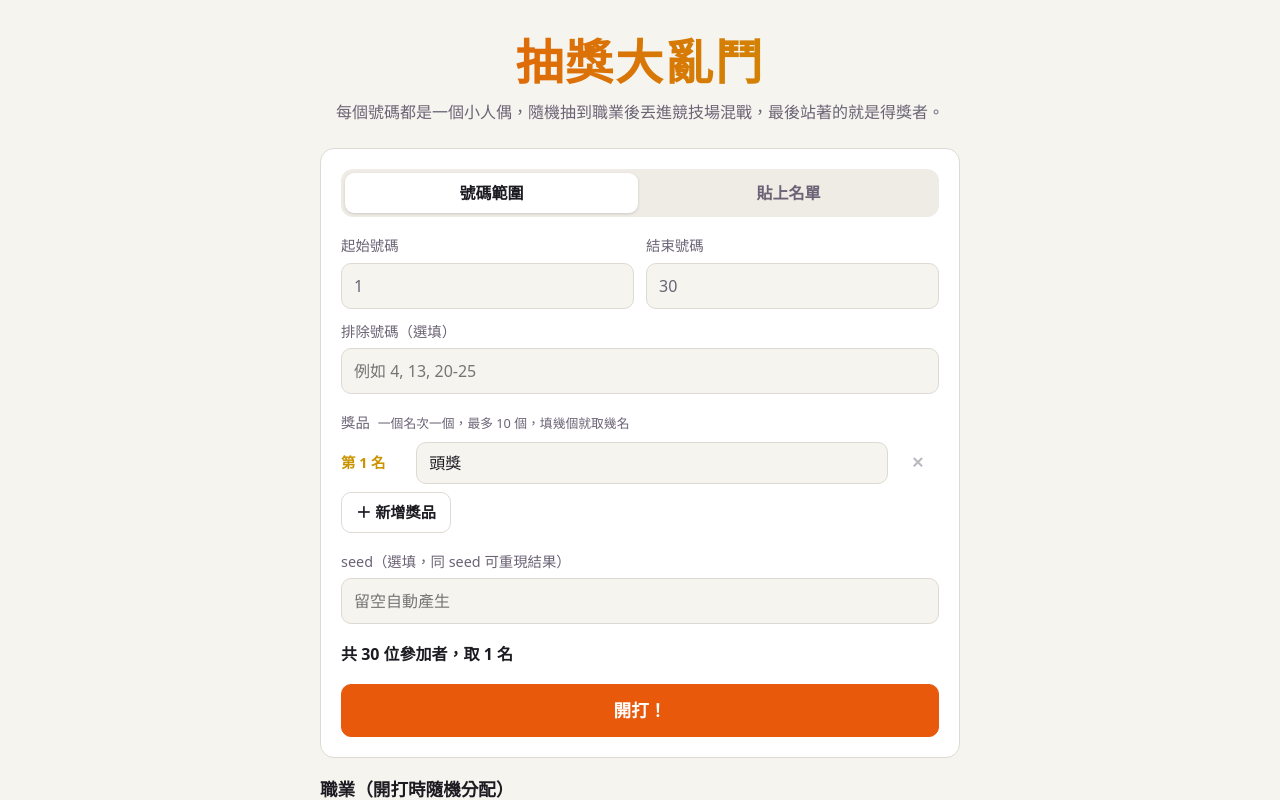
Test: App flow › toggles pause with the Space key
Click the button "開打！". click: (640, 710)
box: [341,684,939,737]
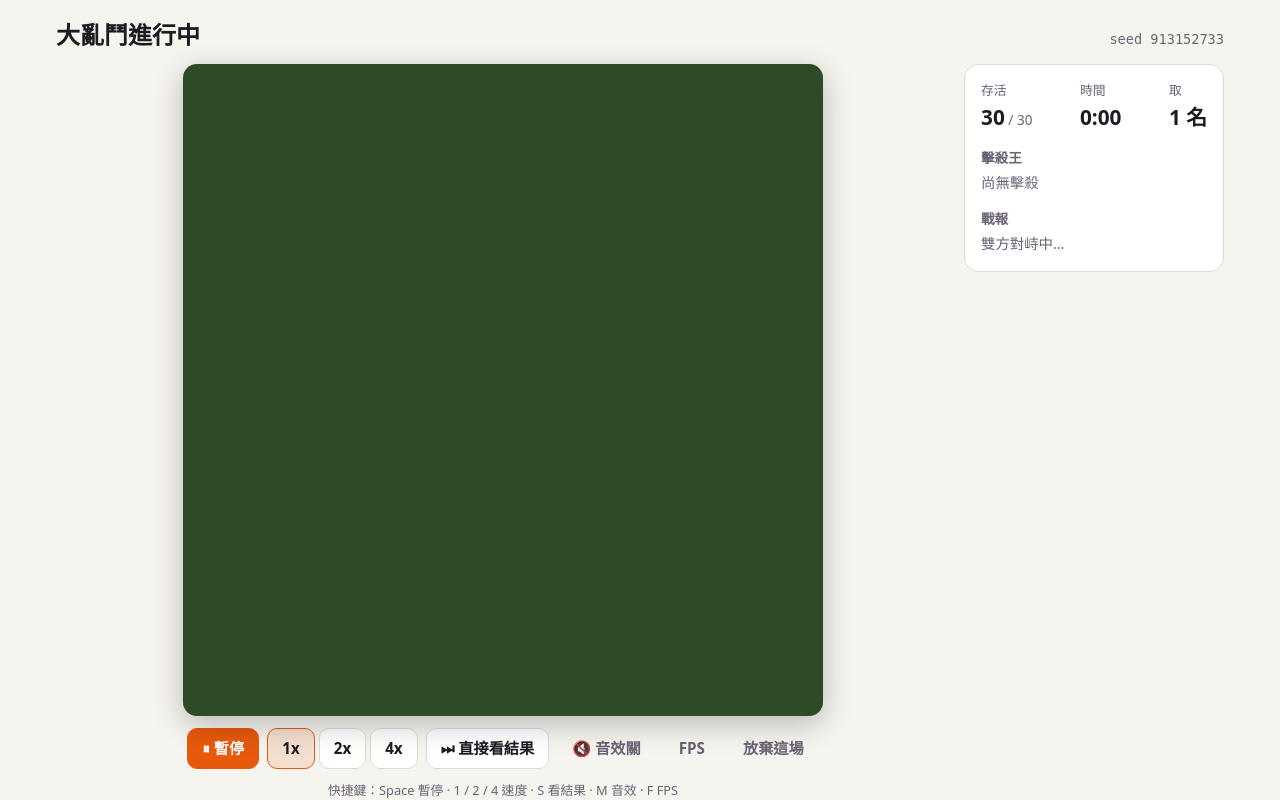
Type keys " "
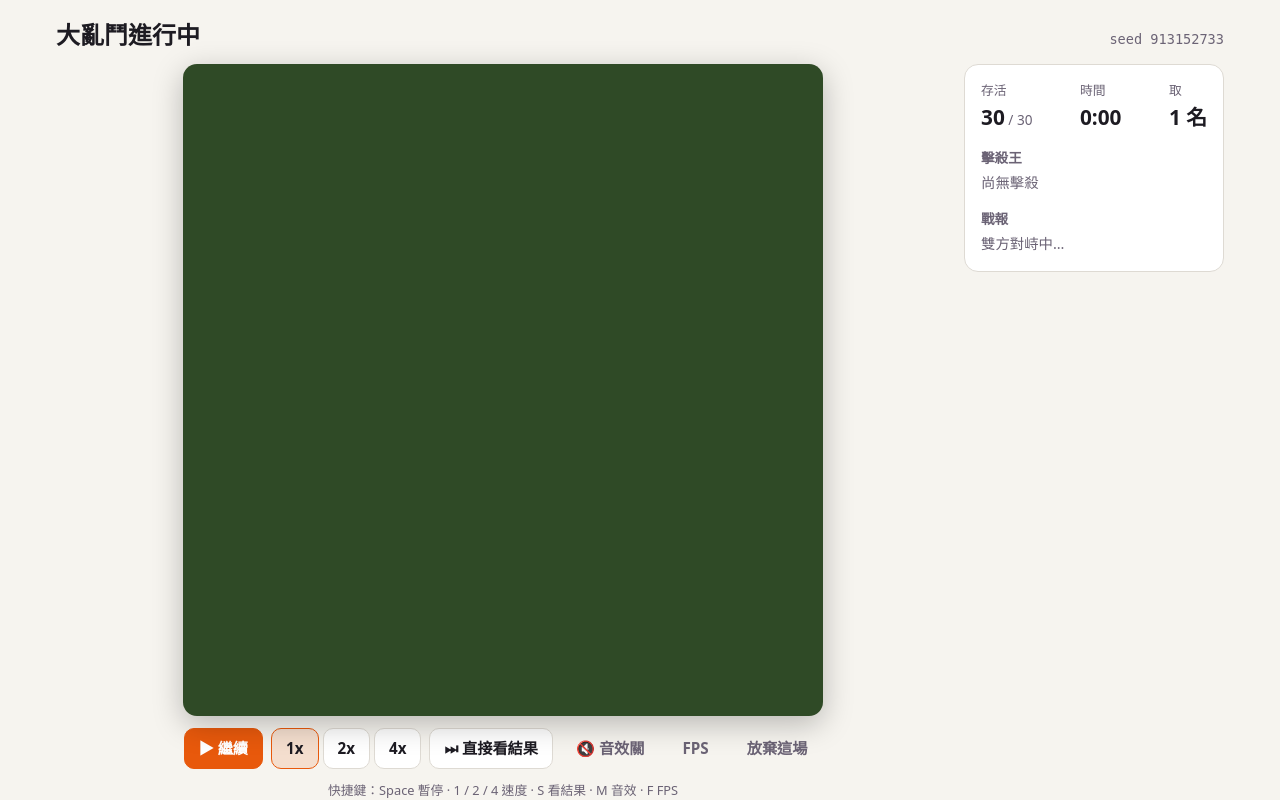
Expected: the button "▶ 繼續" is shown, [184,728,263,769]
Type keys " "
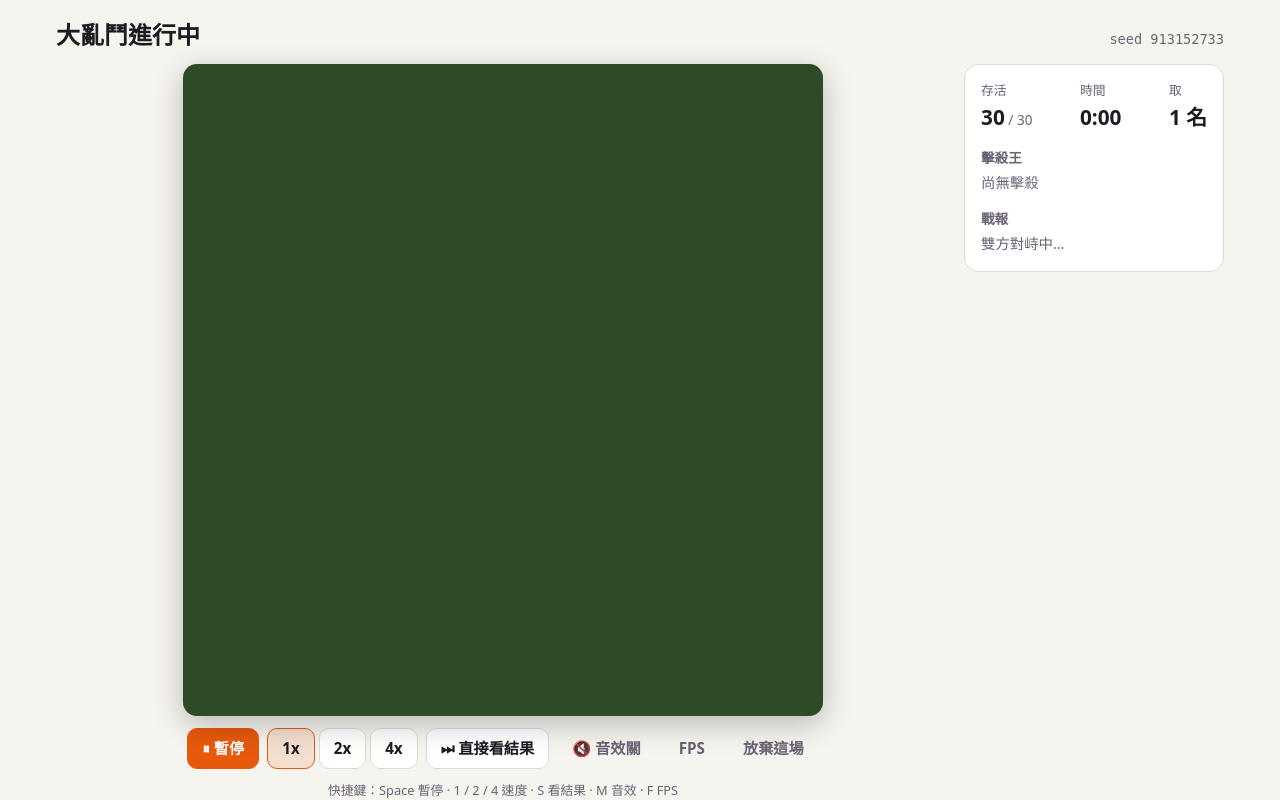
Expected: the button "⏸ 暫停" is shown, [187,728,259,769]
